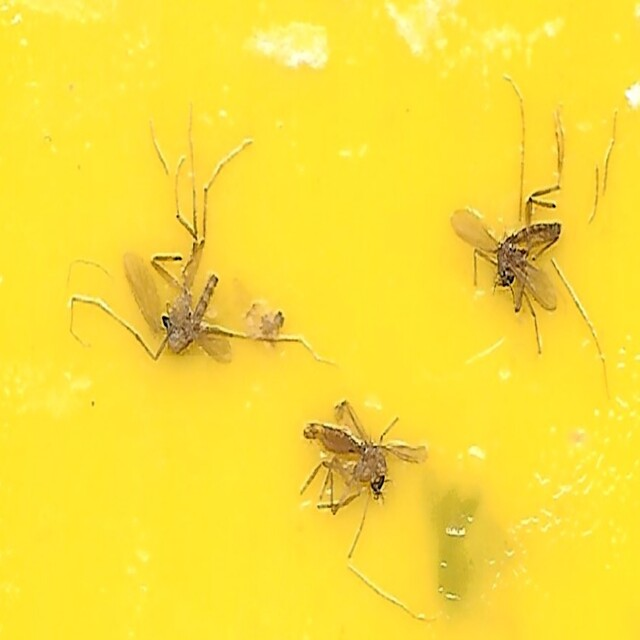Nematocera: (73, 117, 318, 373), (452, 192, 567, 335), (302, 399, 431, 523)
